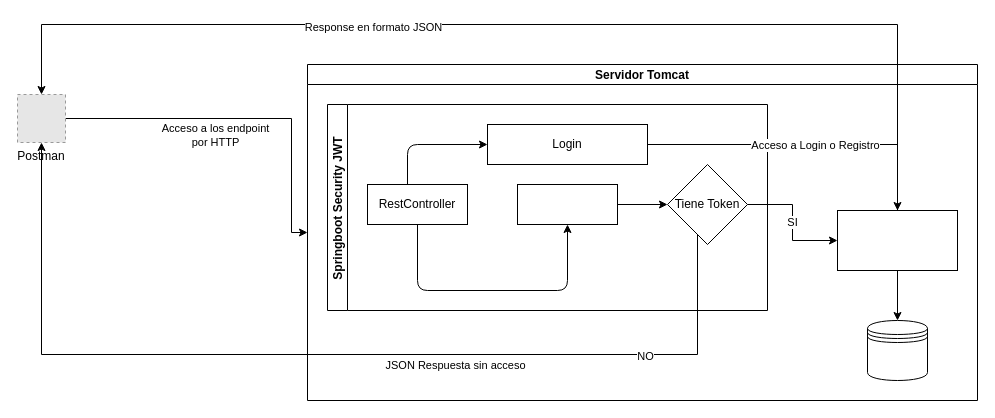
This 995x418 diagram has some shape labels left out. Grey dashed boxes stand in for pictures. The centre of each missing label's shape, as x and y in pixels:
"H2" belongs at (x=897, y=350).
"Servicio" belongs at (x=897, y=240).
"Usuario" belongs at (x=567, y=204).
